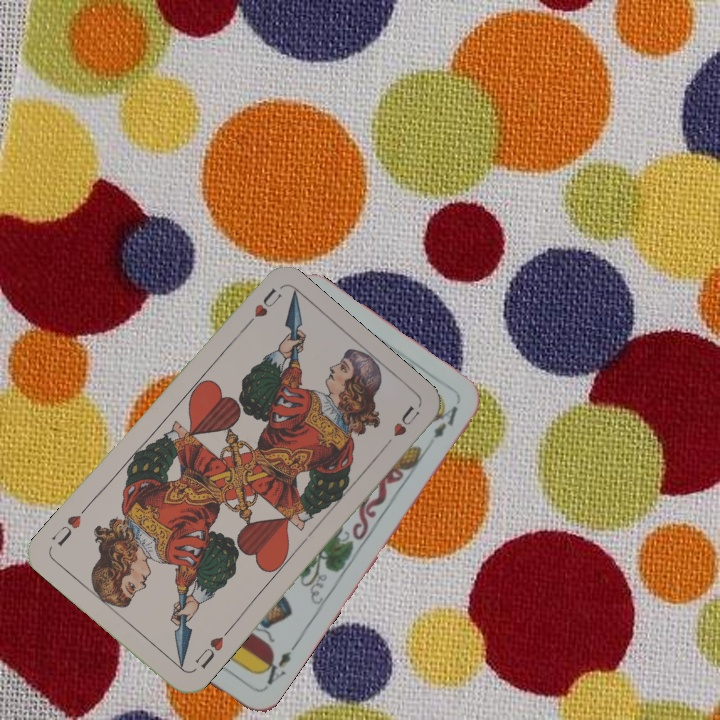EA: (255, 646, 294, 688)
HU: (238, 284, 285, 333), (190, 625, 233, 672)
